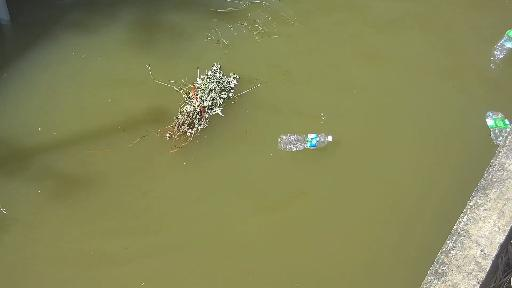plastic: (274, 128, 339, 158), (475, 109, 512, 146), (487, 25, 512, 65)
twig: (140, 62, 250, 153)
